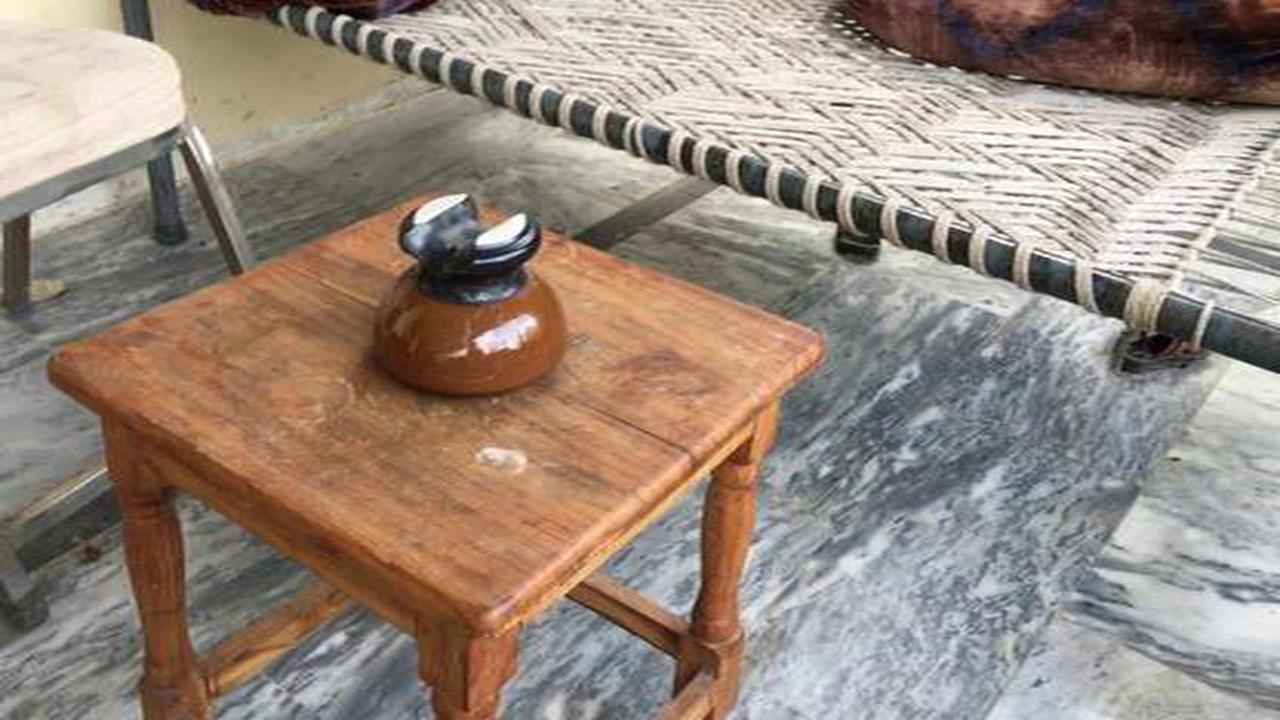insulator_pin: (354, 179, 582, 407)
